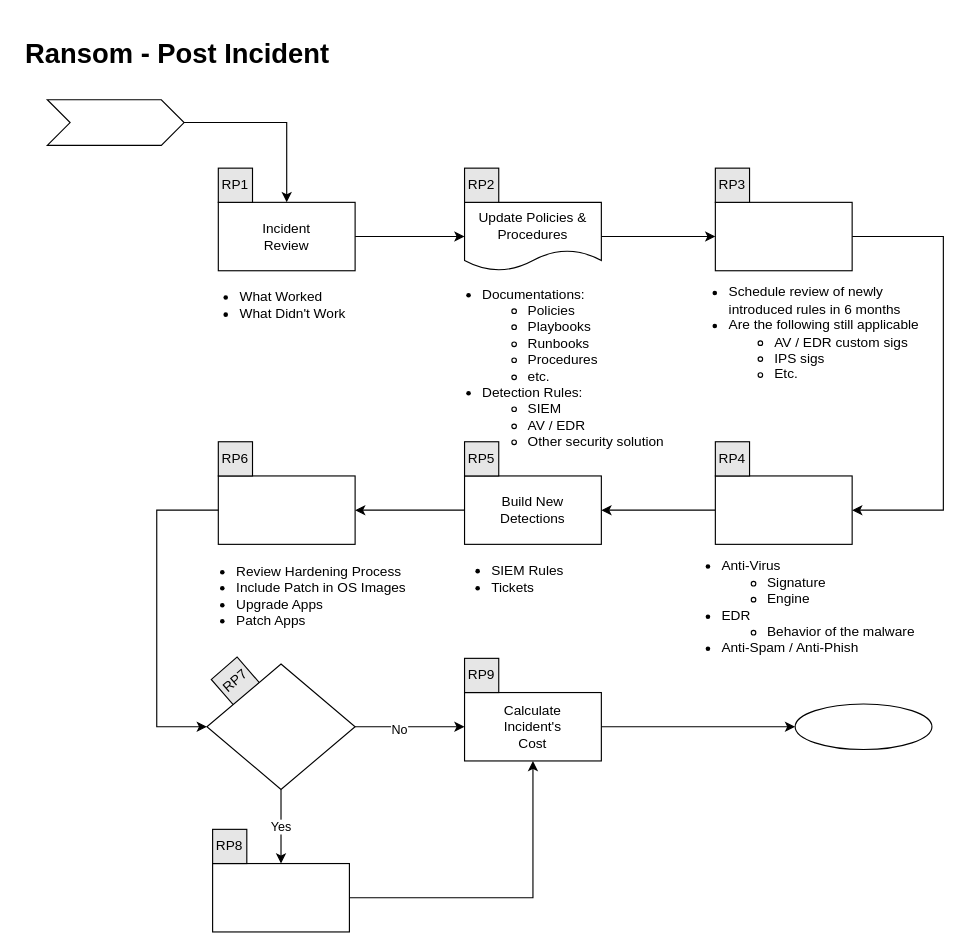
This 972x952 diagram has some shape labels left out. The centre of each missing label's shape, as x and y in pixels:
Incident Cause by Human: the point at 280,726
Modify Base Images: the point at 286,509
Previous (Detect): the point at 115,122
Review Defensive Posture: the point at 783,236
Stop: the point at 863,726
Update / Upgrade Defences: the point at 783,509
User Awareness Training: the point at 280,897
